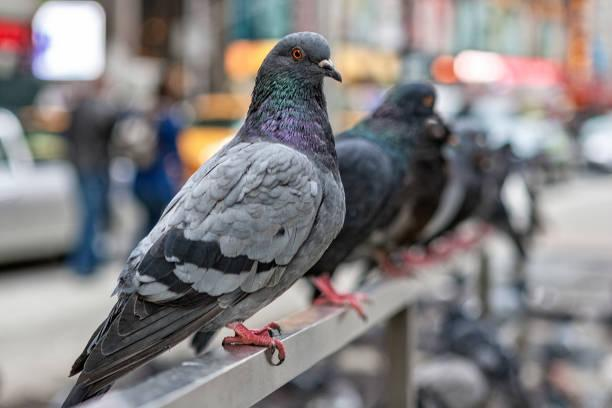bird: (62, 32, 344, 407)
